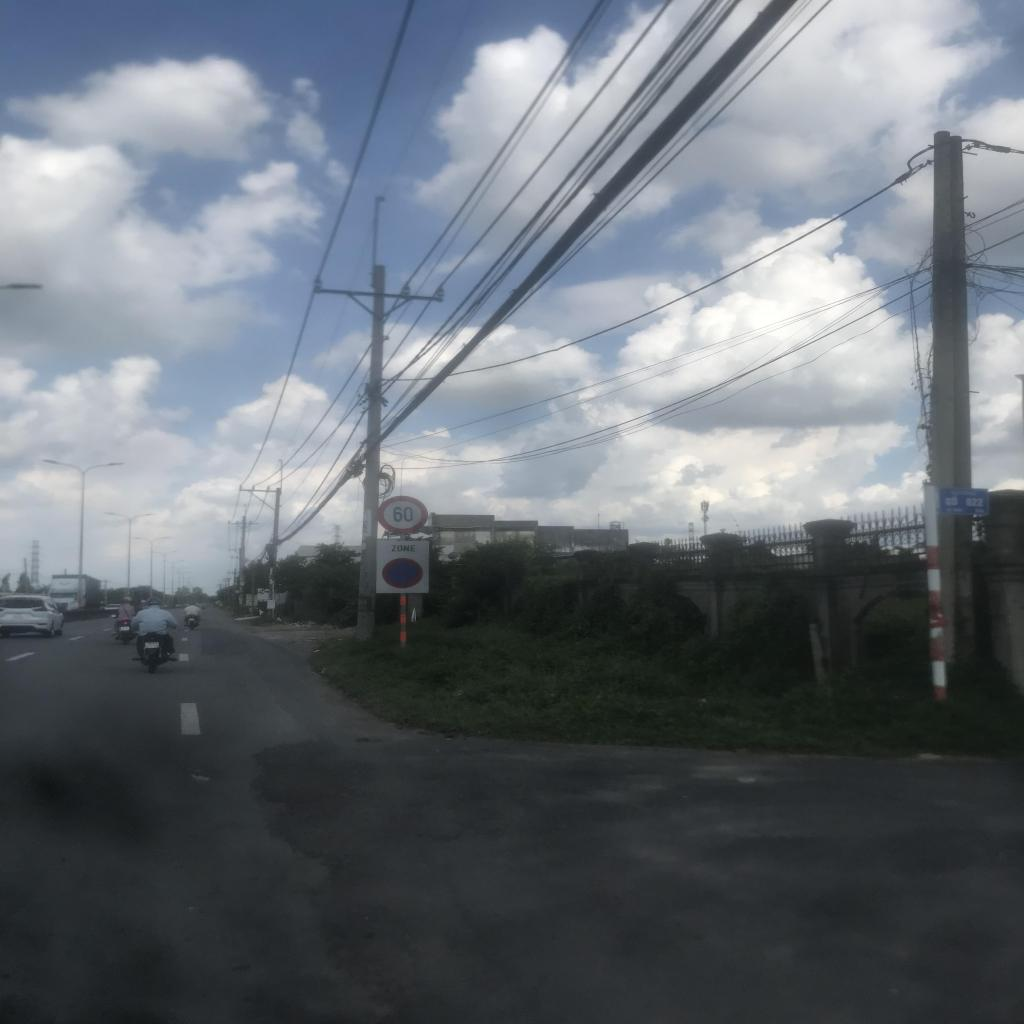cam_do_xe: (381, 556, 424, 589)
toc_do_toi_da_60: (374, 496, 430, 535)
